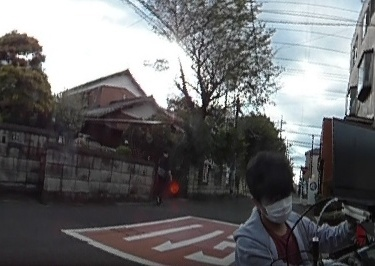person: (229, 149, 333, 266), (152, 147, 174, 202)
